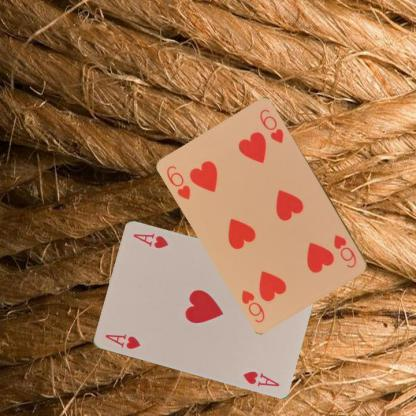6h: (164, 163, 192, 201), (331, 232, 358, 269)
Ah: (102, 332, 142, 350)
